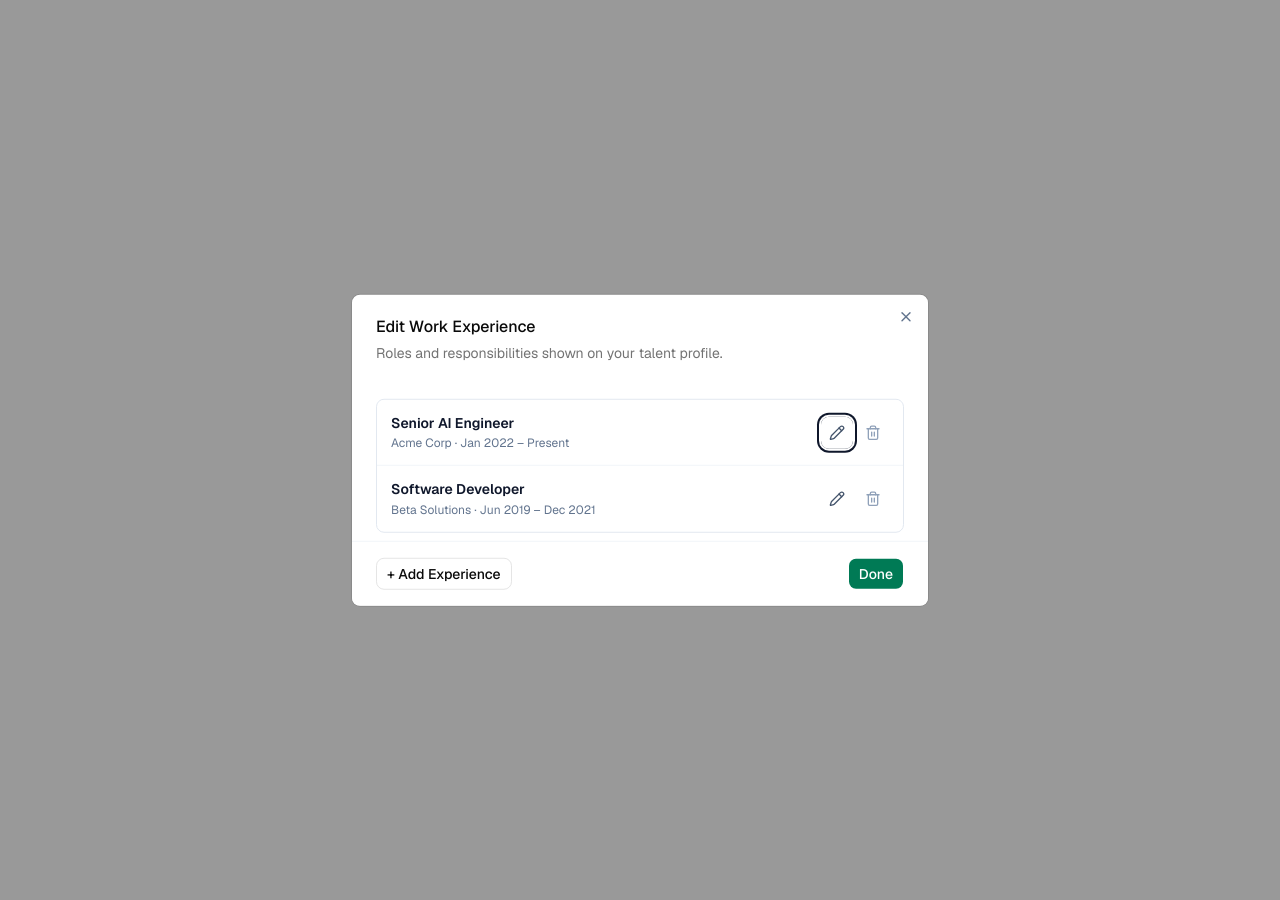
it: EditWorkExperienceDialog › disables end date input when 'I currently work here' is checked
The image size is (1280, 900).
Click the button "+ Add Experience" at (444, 573), box [376,557,512,589]
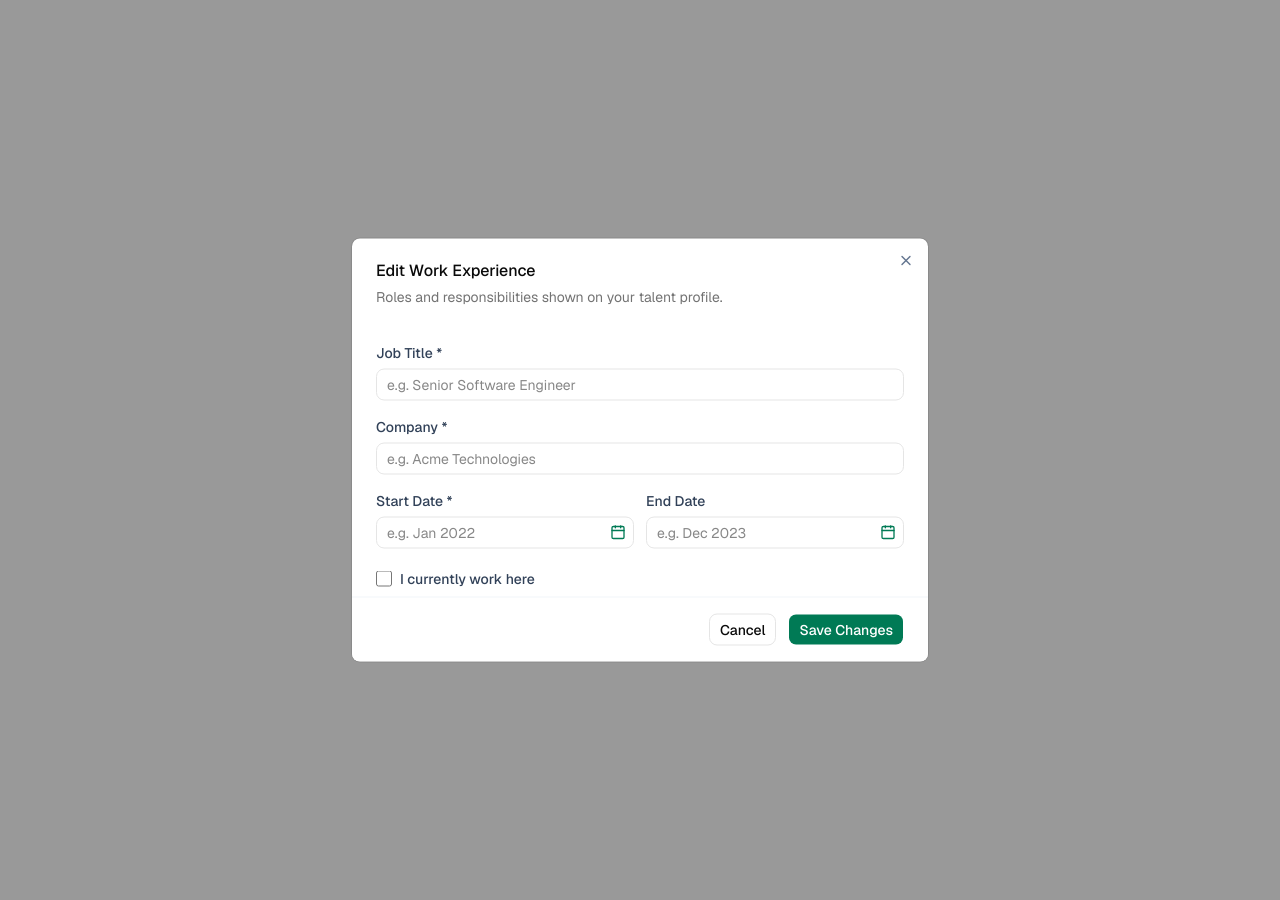
expect the checkbox labelled "I currently work here" is not checked: met
expect the field labelled "End Date" is enabled: met, box [646,516,904,548]
Click the checkbox labelled "I currently work here" at (384, 578), box [376,570,392,586]
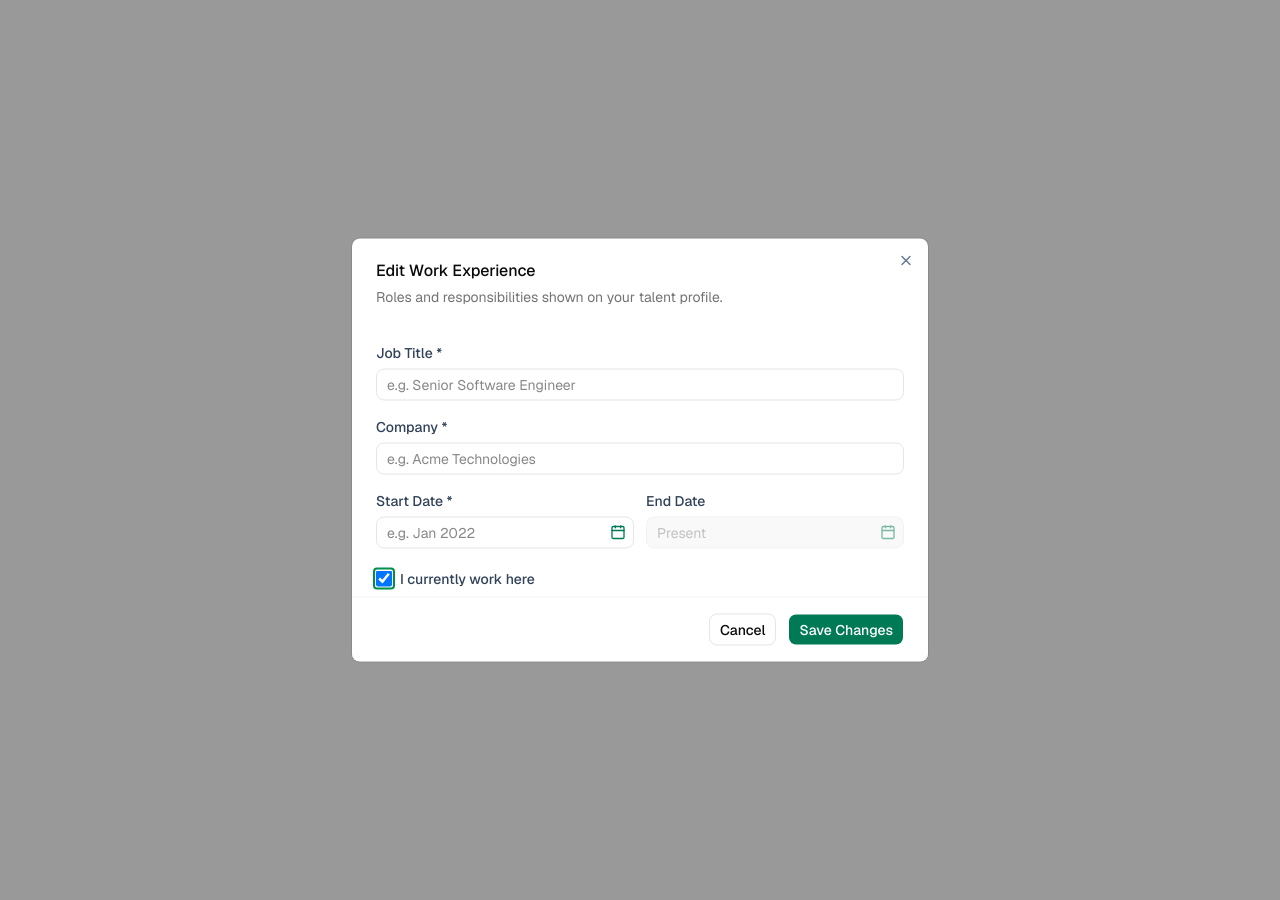
expect the checkbox labelled "I currently work here" is checked: met, box [376,570,392,586]
expect the field labelled "End Date" is disabled: met, box [646,516,904,548]
